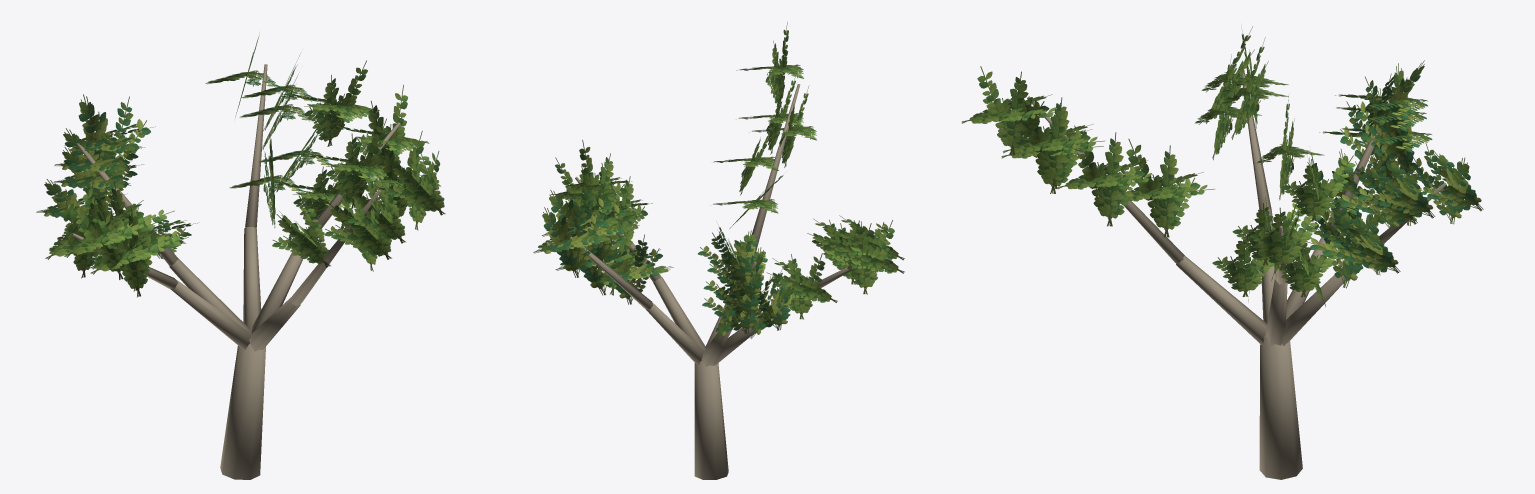
The model's file is banyan-lod.glb.
3 views of the same model, side by side, from view 1: azimuth 30°, elevation 25°; view 2: azimuth 150°, elevation 25°; view 3: azimuth 270°, elevation 25° (orthographic). The views are drawn at different scales.
Parts seen in each view (by area): view 1: banyan-lod_landscape_foliage, banyan-lod_landscape_bark; view 2: banyan-lod_landscape_foliage, banyan-lod_landscape_bark; view 3: banyan-lod_landscape_foliage, banyan-lod_landscape_bark.
Part boxes in pixels (x1,y1,x2,y2): banyan-lod_landscape_foliage: (36,35,445,297); banyan-lod_landscape_bark: (72,64,400,479); banyan-lod_landscape_foliage: (533,22,904,340); banyan-lod_landscape_bark: (570,84,882,479); banyan-lod_landscape_foliage: (962,26,1483,307); banyan-lod_landscape_bark: (1027,64,1446,479).
Size of the model in its own units: 7.64 by 7.41 by 8.62.
2 materials, 1 textured.
